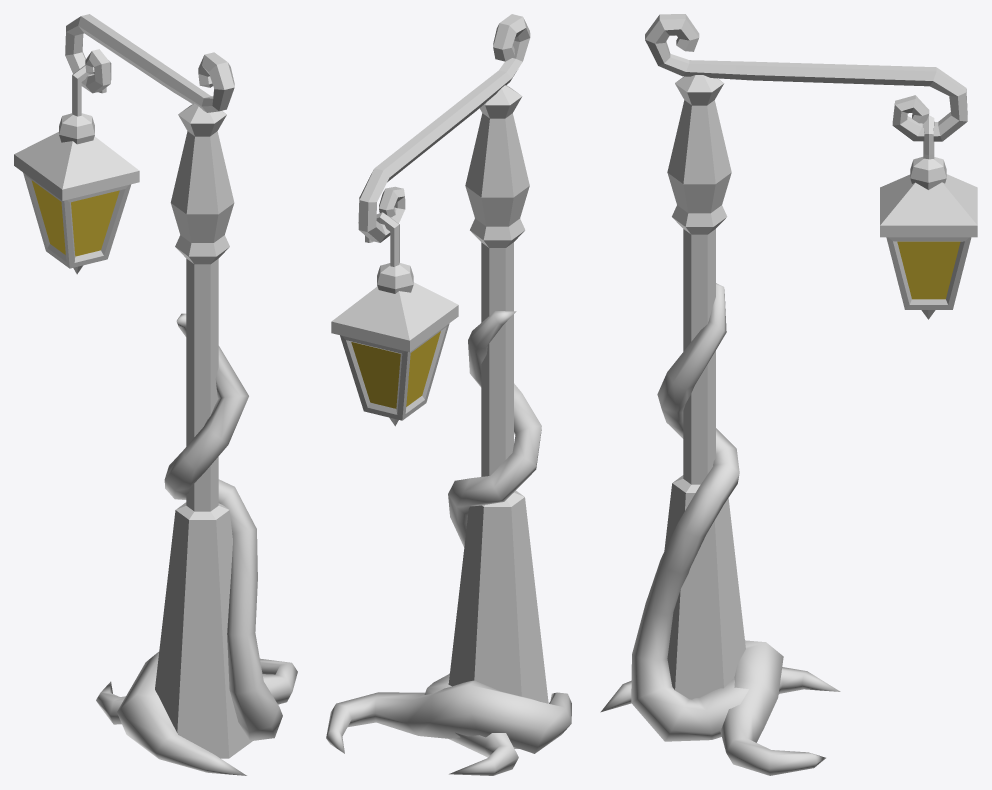
File: large_light.fbx
3 renders of one model, left to right at view 1: azimuth 30°, elevation 25°; view 2: azimuth 150°, elevation 25°; view 3: azimuth 270°, elevation 25°, orthographic.
Parts seen in each view (by area): view 1: Street lamp_A.001; view 2: Street lamp_A.001; view 3: Street lamp_A.001.
Boxes of the visible parts, <box> form: Street lamp_A.001: <box>14,14,297,775</box>; Street lamp_A.001: <box>326,14,571,775</box>; Street lamp_A.001: <box>600,14,977,775</box>.
Bounding box in the file's own units: 17.4 × 58.44 × 28.64.
